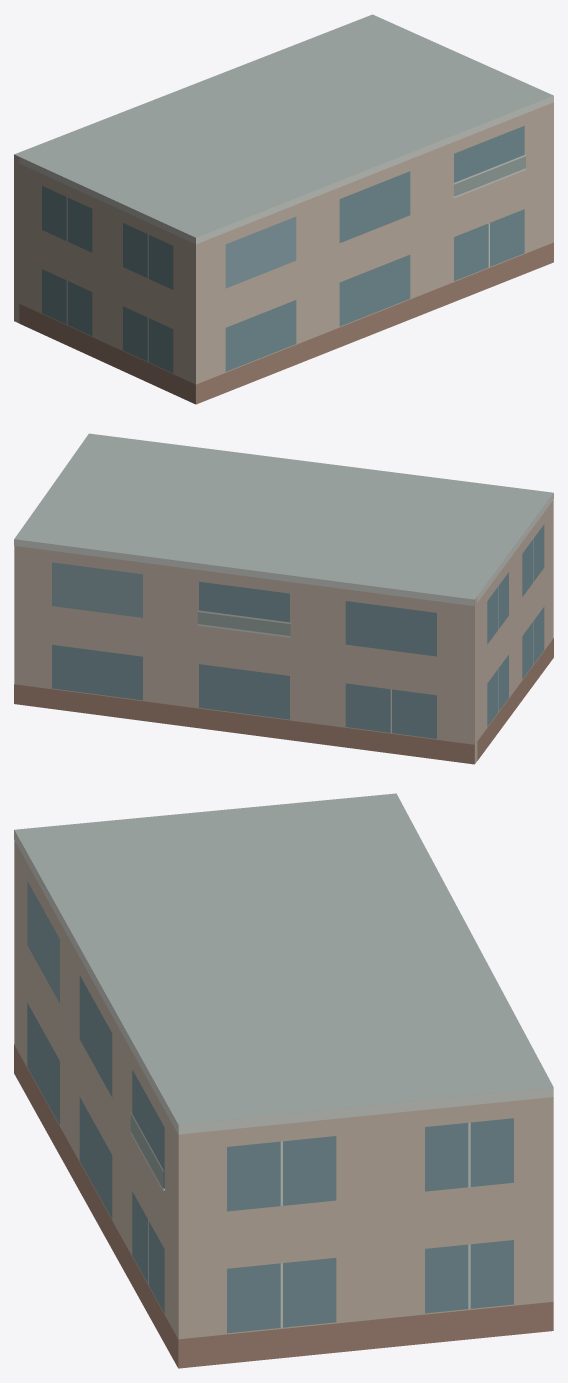
Rendered from survey-upis-32639745.glb.
The picture shows the model from 3 angles, top to bottom: view 1: azimuth 30°, elevation 25°; view 2: azimuth 150°, elevation 25°; view 3: azimuth 270°, elevation 25°; orthographic projection. The views are drawn at different scales.
Visible parts, largest first — view 1: survey-upis-32639745.tmp; view 2: survey-upis-32639745.tmp; view 3: survey-upis-32639745.tmp.
Boxes of the visible parts, <box> form: survey-upis-32639745.tmp: <box>14,14,553,404</box>; survey-upis-32639745.tmp: <box>14,433,553,764</box>; survey-upis-32639745.tmp: <box>14,793,553,1368</box>.
Bounding box in the file's own units: 17.81 × 6.1 × 12.26.
